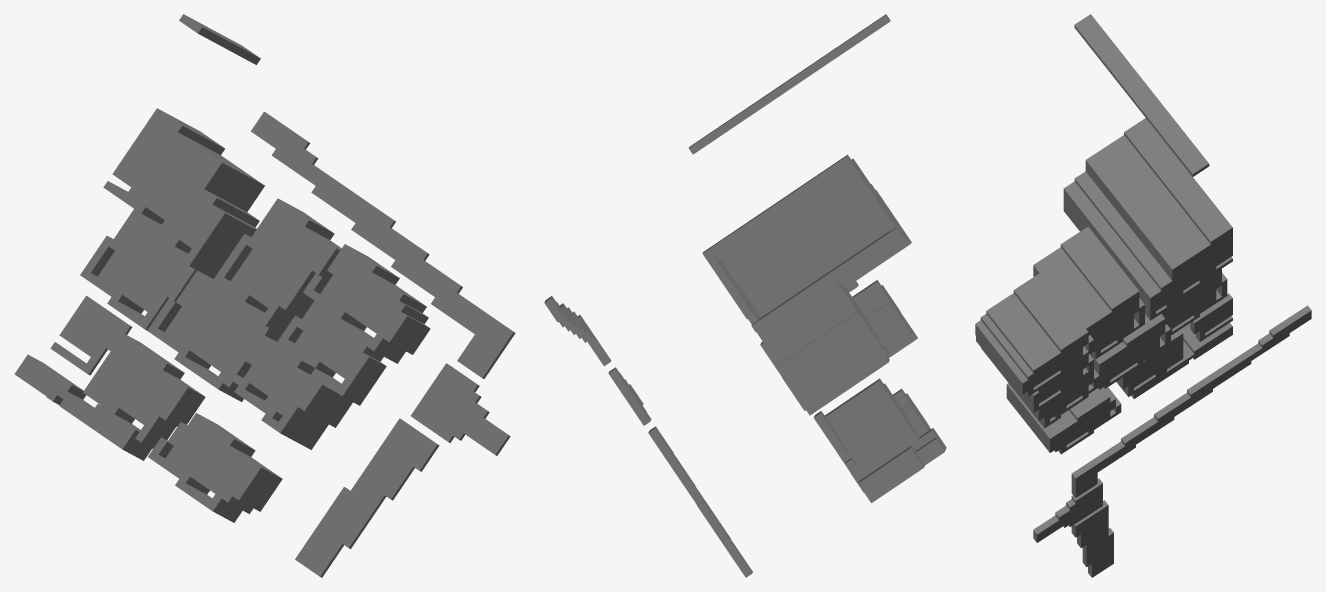
File: tile_3_5.glb
3 renders of one model, left to right at view 1: azimuth 30°, elevation 25°; view 2: azimuth 150°, elevation 25°; view 3: azimuth 270°, elevation 25°, orthographic. The views are drawn at different scales.
Visible parts, largest first — view 1: universal_minecraft:concrete:up, universal_minecraft:terracotta:up, universal_minecraft:stone_bricks:up, universal_minecraft:stone_bricks:north, universal_minecraft:concrete:north, universal_minecraft:stone_bricks:west, universal_minecraft:concrete:west; view 2: universal_minecraft:stone_bricks:south, universal_minecraft:concrete:south, universal_minecraft:concrete:up, universal_minecraft:stone_bricks:west, universal_minecraft:terracotta:south, universal_minecraft:terracotta:up, universal_minecraft:stone_bricks:up, universal_minecraft:grass_block:south; view 3: universal_minecraft:stone_bricks:west, universal_minecraft:concrete:west, universal_minecraft:grass_block:down, universal_minecraft:concrete:down, universal_minecraft:stone_bricks:north, universal_minecraft:stone_bricks:down, universal_minecraft:concrete:north, universal_minecraft:terracotta:down.
Boxes of the visible parts, x1,y1,x2,y2 form: universal_minecraft:concrete:up: (46, 112, 513, 576); universal_minecraft:terracotta:up: (21, 115, 325, 415); universal_minecraft:stone_bricks:up: (14, 14, 336, 432); universal_minecraft:stone_bricks:north: (67, 27, 352, 449); universal_minecraft:concrete:north: (53, 142, 515, 577); universal_minecraft:stone_bricks:west: (29, 14, 341, 422); universal_minecraft:concrete:west: (56, 112, 514, 500); universal_minecraft:stone_bricks:south: (688, 15, 923, 502); universal_minecraft:concrete:south: (544, 298, 944, 577); universal_minecraft:concrete:up: (551, 296, 946, 572); universal_minecraft:stone_bricks:west: (689, 14, 911, 483); universal_minecraft:terracotta:south: (818, 163, 907, 457); universal_minecraft:terracotta:up: (825, 161, 924, 467); universal_minecraft:stone_bricks:up: (820, 14, 923, 467); universal_minecraft:grass_block:south: (707, 256, 759, 324); universal_minecraft:stone_bricks:west: (1033, 14, 1232, 421); universal_minecraft:concrete:west: (975, 272, 1311, 535); universal_minecraft:grass_block:down: (1028, 230, 1232, 448); universal_minecraft:concrete:down: (1022, 310, 1311, 577); universal_minecraft:stone_bricks:north: (976, 25, 1221, 427); universal_minecraft:stone_bricks:down: (1039, 164, 1232, 427); universal_minecraft:concrete:north: (975, 290, 1273, 577); universal_minecraft:terracotta:down: (1200, 301, 1232, 332).
Size of the model in its own units: 61.7 by 82.64 by 49.76.
20 materials, 20 textured.
